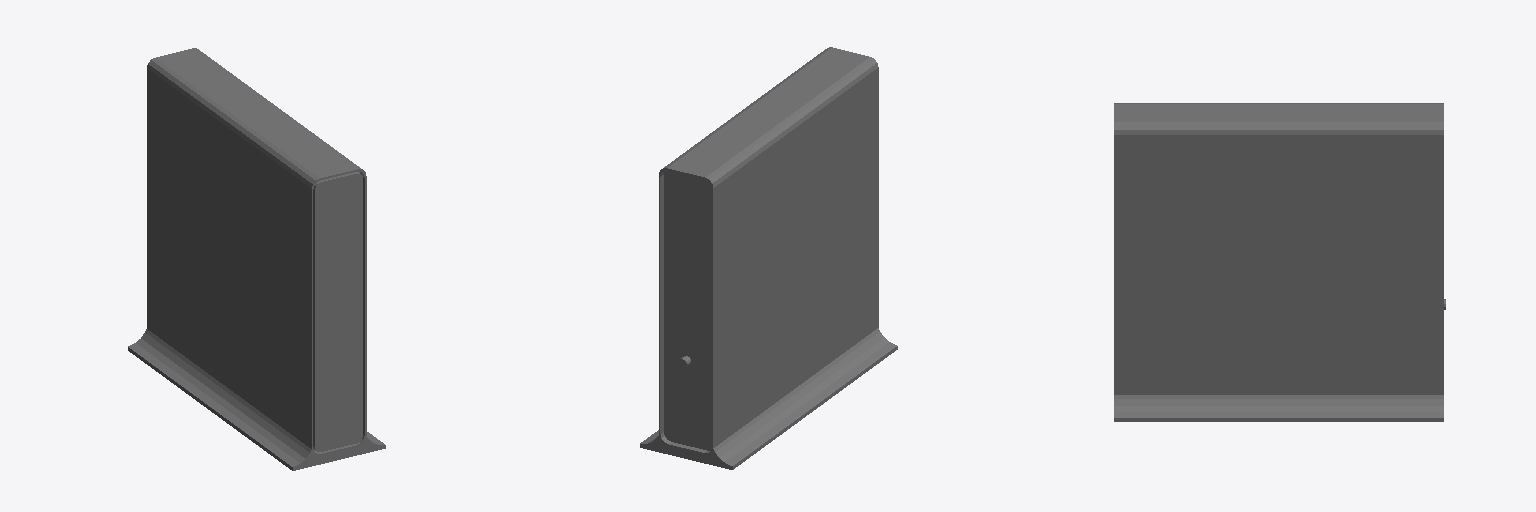
File: Gateway.obj
3 renders of one model, left to right at view 1: azimuth 30°, elevation 25°; view 2: azimuth 150°, elevation 25°; view 3: azimuth 270°, elevation 25°, orthographic.
Visible parts, largest first — view 1: pCylinder2; view 2: pCylinder2; view 3: pCylinder2.
Boxes of the visible parts, <box> form: pCylinder2: <box>128,48,385,470</box>; pCylinder2: <box>640,47,897,469</box>; pCylinder2: <box>1114,103,1445,421</box>.
Bounding box in the file's own units: 10.7 × 31.5 × 33.19.